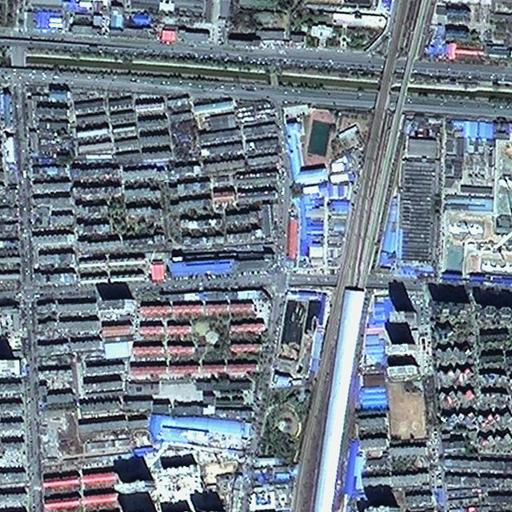school: (280, 102, 338, 183)
